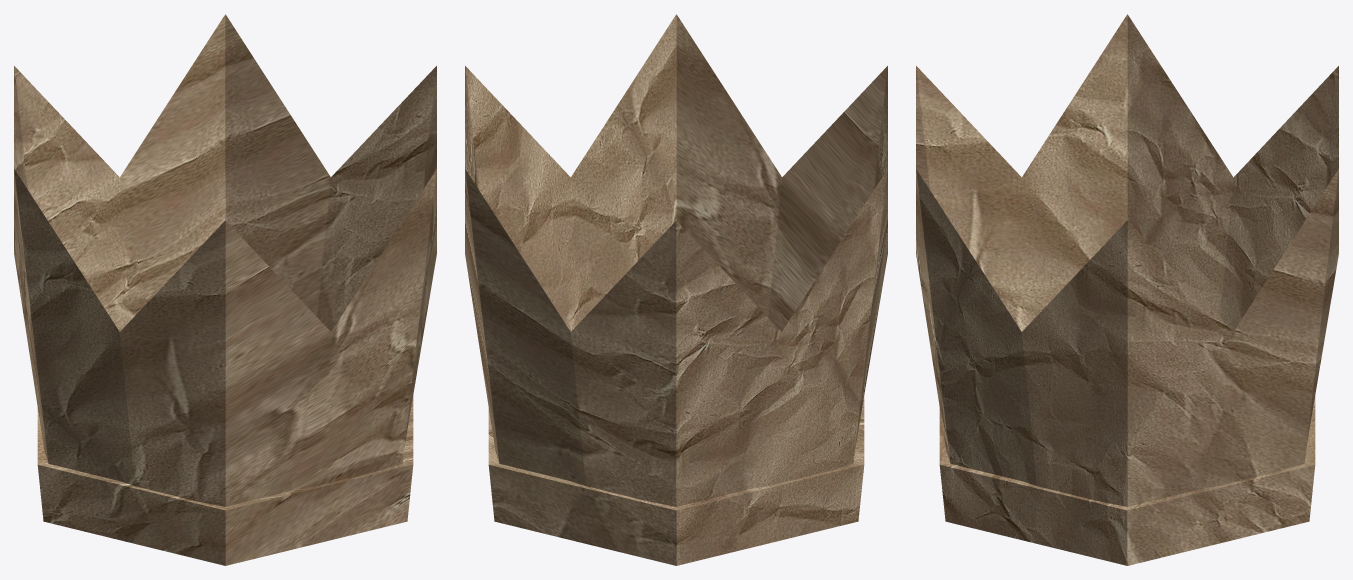
The model's file is PaperCrown2.fbx.
3 renders of one model, left to right at view 1: azimuth 30°, elevation 25°; view 2: azimuth 150°, elevation 25°; view 3: azimuth 270°, elevation 25°, orthographic.
Visible parts, largest first — view 1: Torus; view 2: Torus; view 3: Torus.
Boxes of the visible parts, bbox=[...] form: Torus: bbox=[14, 14, 436, 565]; Torus: bbox=[465, 14, 887, 565]; Torus: bbox=[916, 14, 1338, 565].
Size of the model in its own units: 184 by 150 by 160.
1 material, 1 textured.
